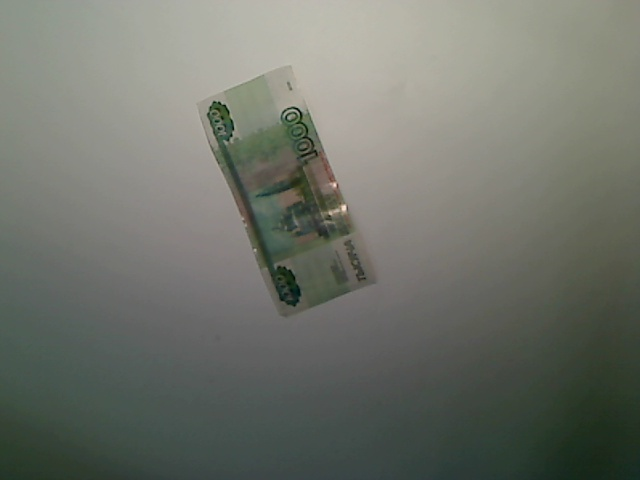banknotes: (193, 62, 381, 319)
